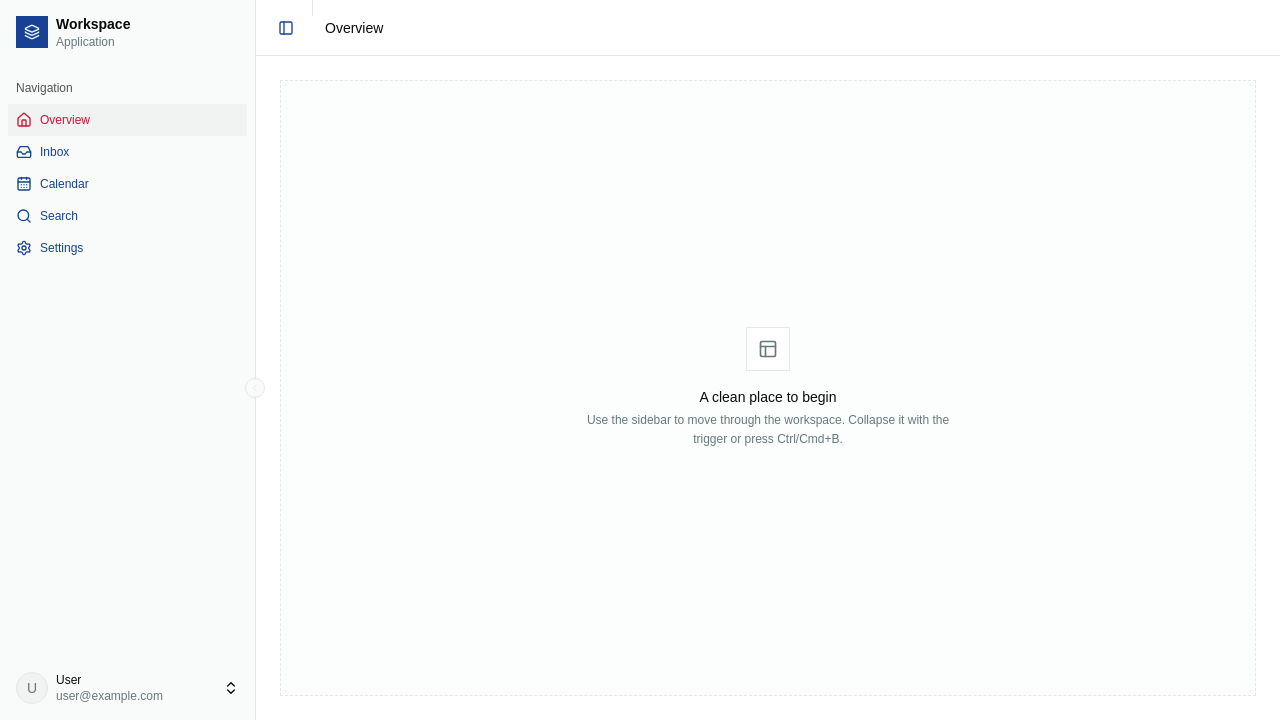
AuthenticatedApp › keeps the authenticated view and shows an error when logout fails
Click the button with aria-label "Open user menu" at [128, 688], box [8,664,247,712]
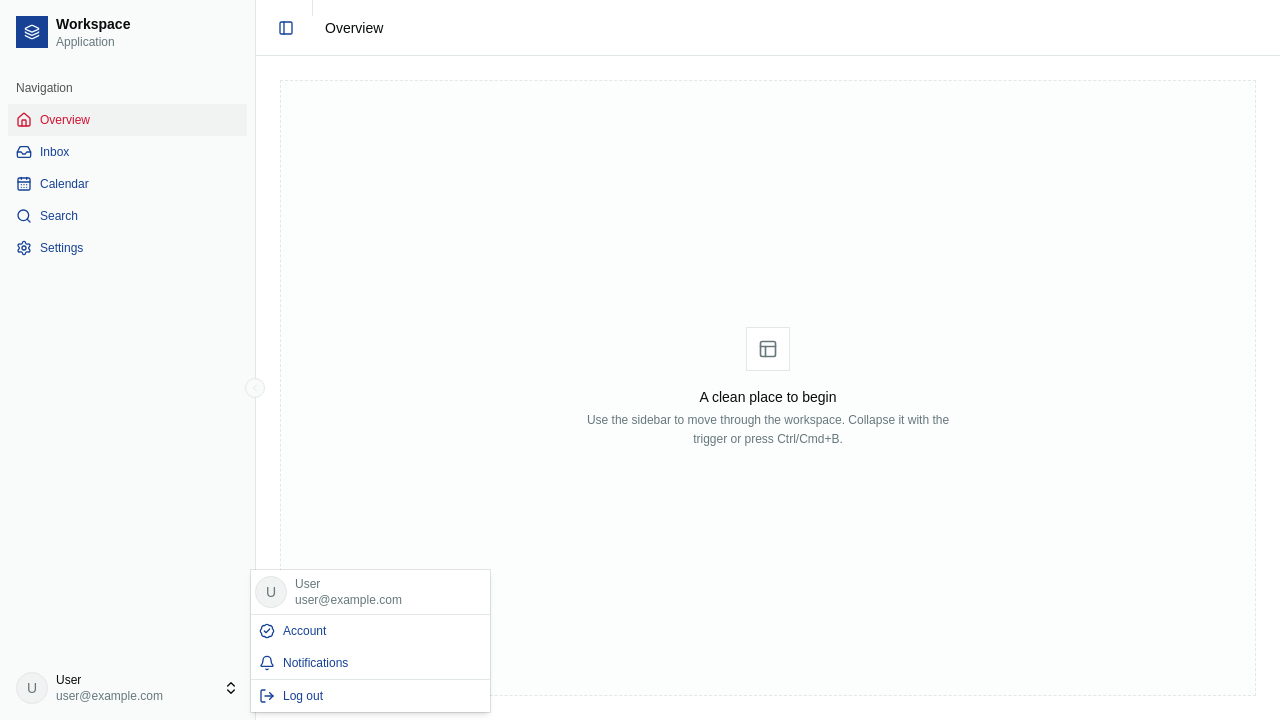
Click the menu item "Log out" at [291, 696], box [259,688,323,704]
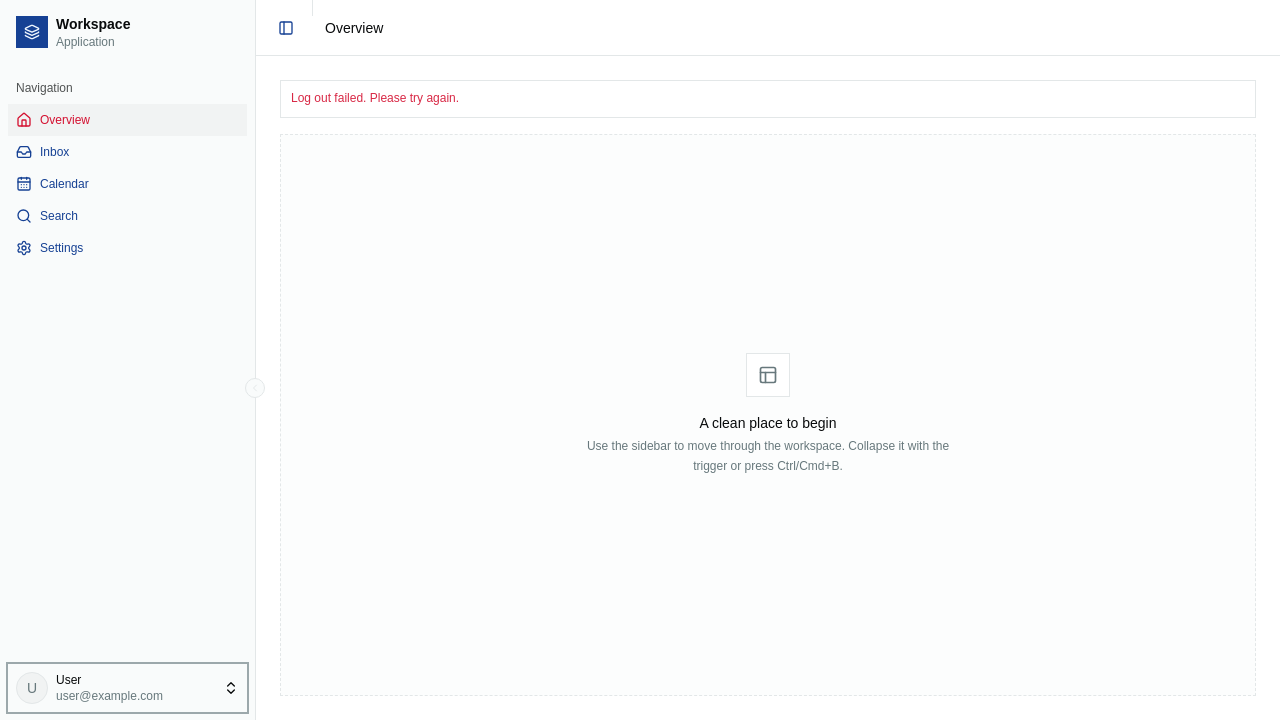
Expected: the text "user@example.com" is shown, [56,689,163,703]
Now the text "Log out failed. Please try again." is shown, box [291,91,459,105]
